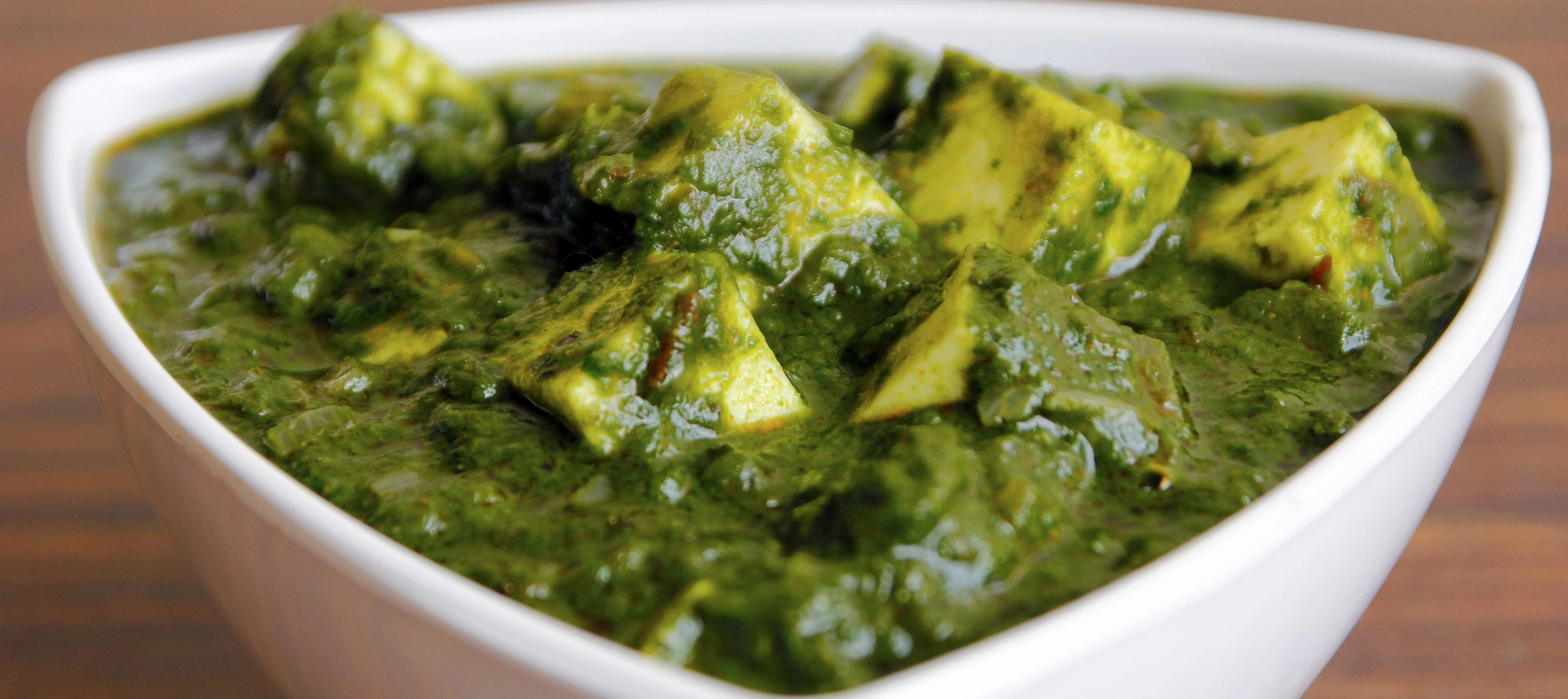PalakPaneer: (98, 27, 1497, 693)
